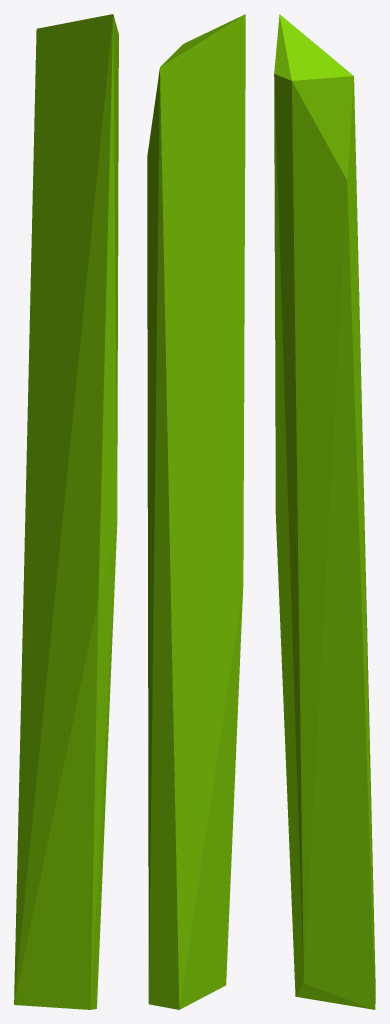
The model's file is recycle_bin_convex_piece_008.obj.
3 views of the same model, side by side, from view 1: azimuth 90°, elevation 25°; view 2: azimuth 150°, elevation 25°; view 3: azimuth 270°, elevation 25° (orthographic). The views are drawn at different scales.
Size of the model in its own units: 0.0299 by 0.397 by 0.0376.
